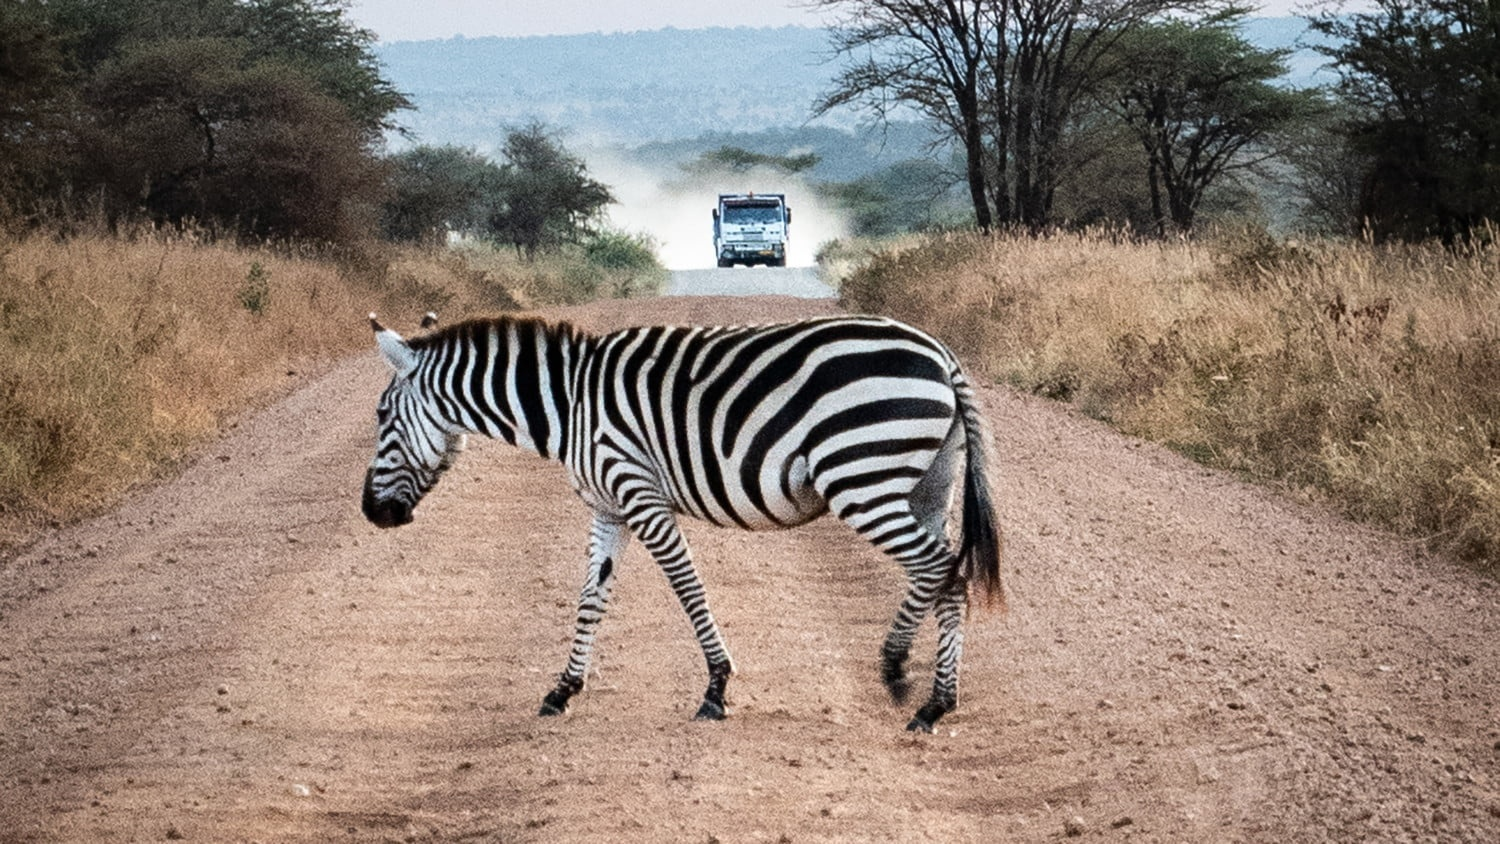zebra: (356, 301, 1005, 735)
